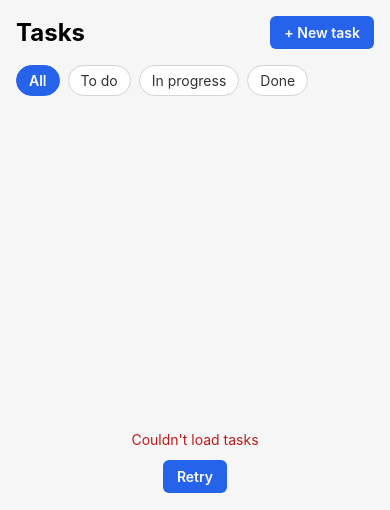
Scenario: TasksScreen › shows only the error state when loading fails
Expected: the text "Couldn't load tasks" is shown, [131,431,258,448]
Click the text "Retry" at (195,476), box [177,468,213,485]
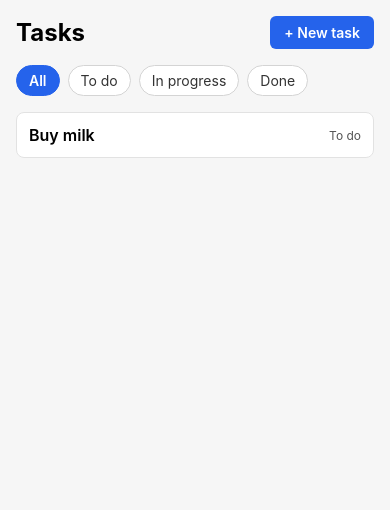
Expected: the text "Buy milk" is shown, [29,125,95,145]
